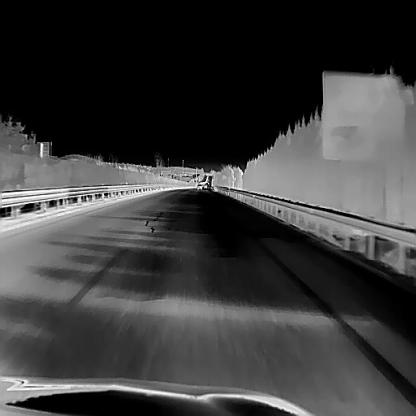car: (195, 183, 202, 189)
